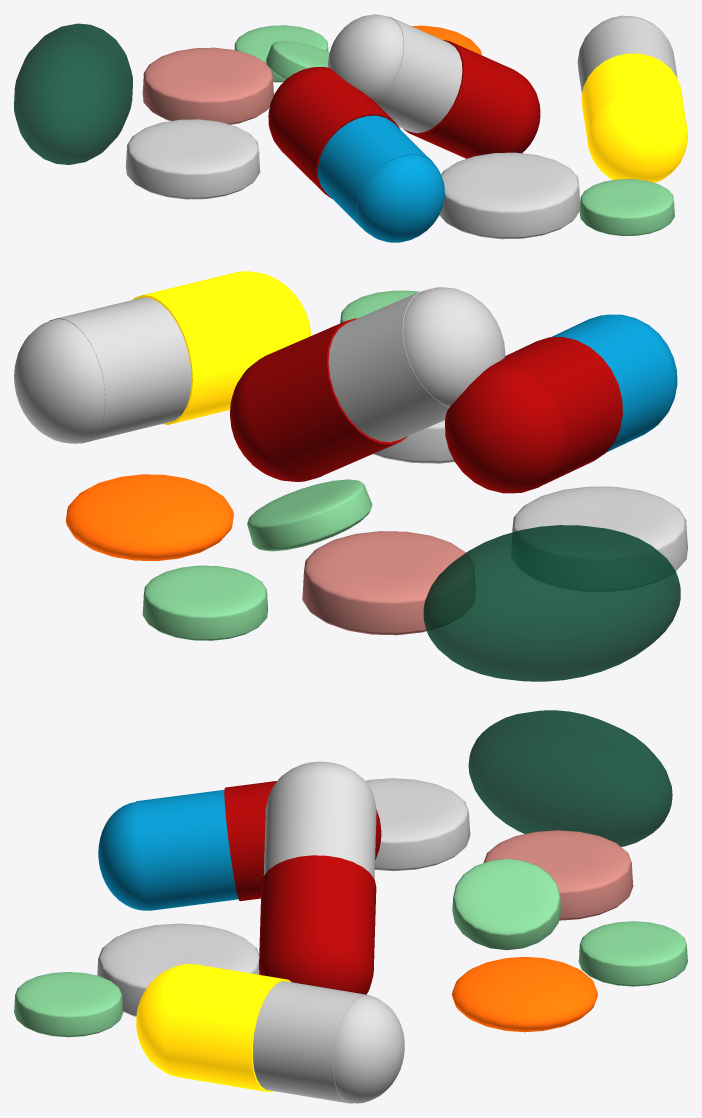
File: medicine.fbx
The picture shows the model from 3 angles, top to bottom: view 1: azimuth 30°, elevation 25°; view 2: azimuth 150°, elevation 25°; view 3: azimuth 270°, elevation 25°; orthographic projection. The views are drawn at different scales.
Visible parts, largest first — view 1: pasted__pCylinder4, group3_pasted__group1_pasted__pCylinder3, group2_pasted__group1_pasted__pasted__pCylinder4, pSphere12, pSphere9, pSphere3, pSphere7, pSphere11, pSphere8, pSphere10, pSphere1; view 2: group2_pasted__group1_pasted__pasted__pCylinder4, pasted__pCylinder4, pSphere12, group3_pasted__group1_pasted__pCylinder3, pSphere7, pSphere1, pSphere8, pSphere3, pSphere10, pSphere9, pSphere11; view 3: group2_pasted__group1_pasted__pasted__pCylinder4, pasted__pCylinder4, pSphere12, group3_pasted__group1_pasted__pCylinder3, pSphere1, pSphere10, pSphere7, pSphere9, pSphere3, pSphere11, pSphere8.
Part boxes in pixels (box(x1,y1,x2,y2)): pasted__pCylinder4: box(328, 14, 540, 158); group3_pasted__group1_pasted__pCylinder3: box(268, 67, 444, 242); group2_pasted__group1_pasted__pasted__pCylinder4: box(577, 15, 687, 182); pSphere12: box(14, 23, 132, 164); pSphere9: box(439, 152, 580, 239); pSphere3: box(125, 119, 260, 199); pSphere7: box(142, 47, 273, 124); pSphere11: box(579, 179, 674, 235); pSphere8: box(234, 25, 328, 82); pSphere10: box(265, 41, 329, 79); pSphere1: box(411, 25, 481, 54); group2_pasted__group1_pasted__pasted__pCylinder4: box(14, 271, 310, 443); pasted__pCylinder4: box(230, 287, 505, 481); pSphere12: box(423, 525, 680, 681); group3_pasted__group1_pasted__pCylinder3: box(445, 314, 677, 493); pSphere7: box(302, 531, 465, 635); pSphere1: box(65, 474, 233, 560); pSphere8: box(142, 565, 267, 640); pSphere3: box(512, 486, 687, 571); pSphere10: box(247, 479, 372, 551); pSphere9: box(373, 420, 454, 463); pSphere11: box(340, 290, 418, 323); group2_pasted__group1_pasted__pasted__pCylinder4: box(136, 964, 404, 1103); pasted__pCylinder4: box(259, 761, 376, 994); pSphere12: box(468, 710, 672, 846); group3_pasted__group1_pasted__pCylinder3: box(98, 781, 381, 910); pSphere1: box(451, 957, 597, 1032); pSphere10: box(452, 858, 561, 950); pSphere7: box(483, 830, 633, 920); pSphere9: box(97, 923, 259, 1016); pSphere3: box(365, 778, 470, 871); pSphere11: box(14, 972, 123, 1037); pSphere8: box(578, 921, 687, 986).
Size of the model in its own units: 7.45 by 2.14 by 6.73.
